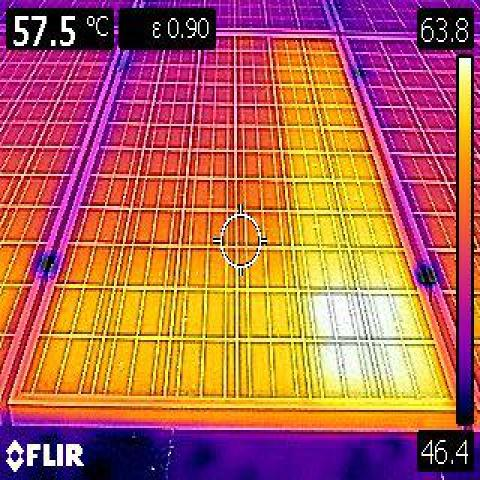fault: (268, 36, 452, 408)
